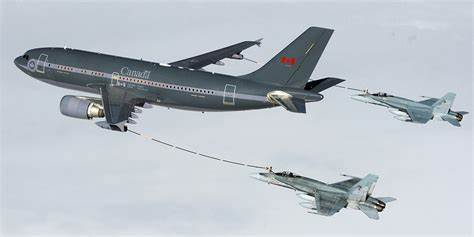Aeronef_militaire: (7, 22, 352, 140), (244, 155, 400, 228), (342, 75, 472, 136)
